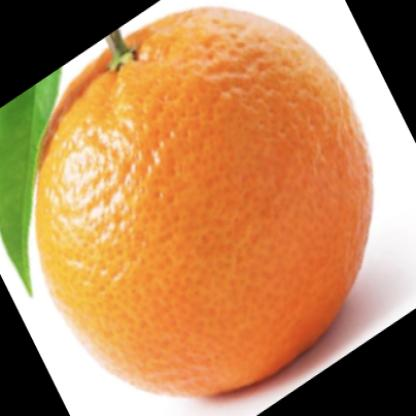fresh: (34, 10, 373, 394)
